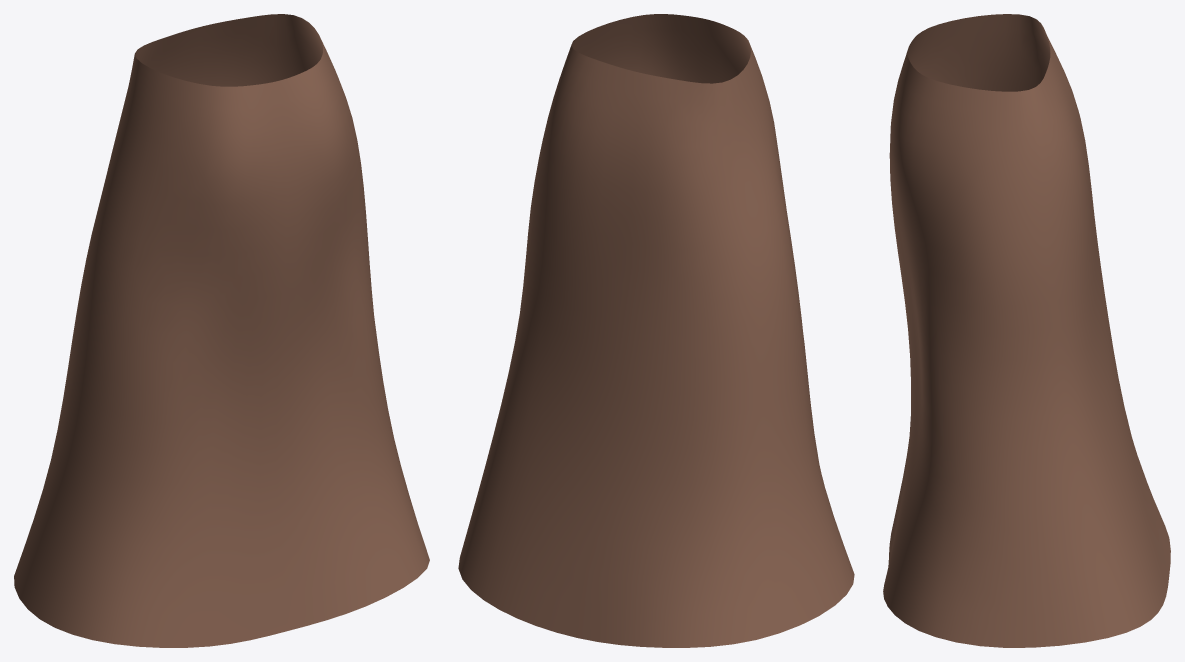
The model's file is CoatDown.fbx.
The picture shows the model from 3 angles, left to right: view 1: azimuth 30°, elevation 25°; view 2: azimuth 150°, elevation 25°; view 3: azimuth 270°, elevation 25°; orthographic projection. The views are drawn at different scales.
Parts seen in each view (by area): view 1: Cube; view 2: Cube; view 3: Cube.
Boxes of the visible parts, x1=… form: Cube: x1=14, y1=14, x2=429, y2=647; Cube: x1=458, y1=14, x2=854, y2=647; Cube: x1=883, y1=14, x2=1170, y2=647.
Bounding box in the file's own units: 58.94 × 84.43 × 42.07.
